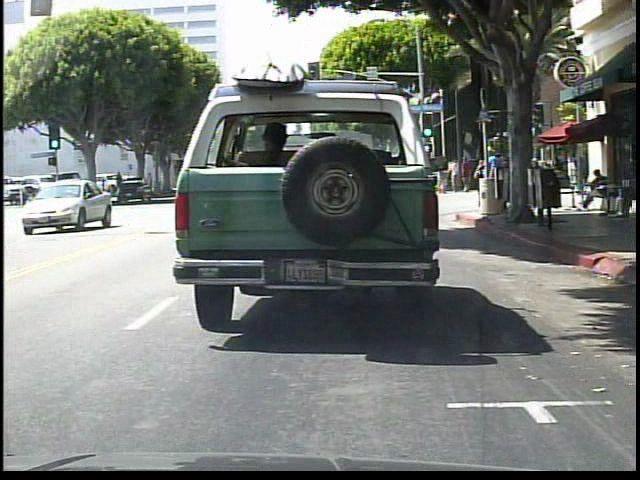person: (579, 168, 612, 211), (484, 148, 501, 208), (496, 155, 512, 214), (473, 158, 488, 210), (534, 161, 547, 204), (459, 157, 473, 194), (527, 165, 539, 202), (451, 160, 462, 194), (568, 158, 578, 191), (437, 163, 447, 196), (426, 171, 437, 198)
